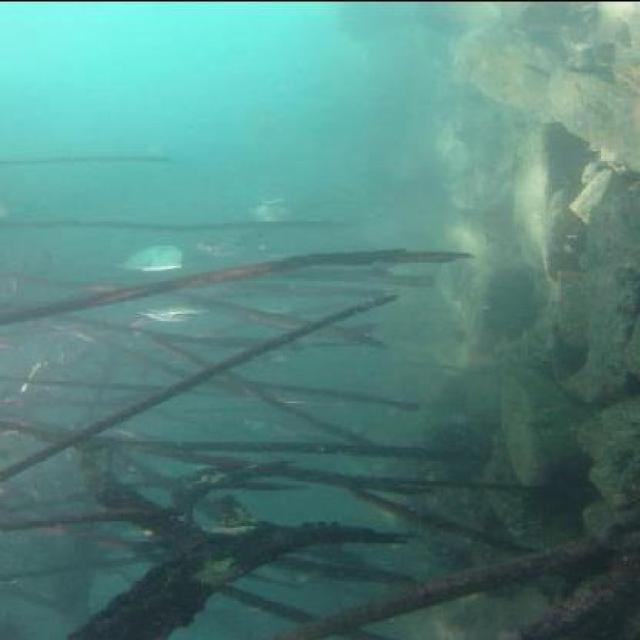Caranx_sexfasciatus_juvenile: (125, 296, 221, 324), (108, 244, 188, 276), (244, 190, 305, 224), (191, 227, 258, 255)
